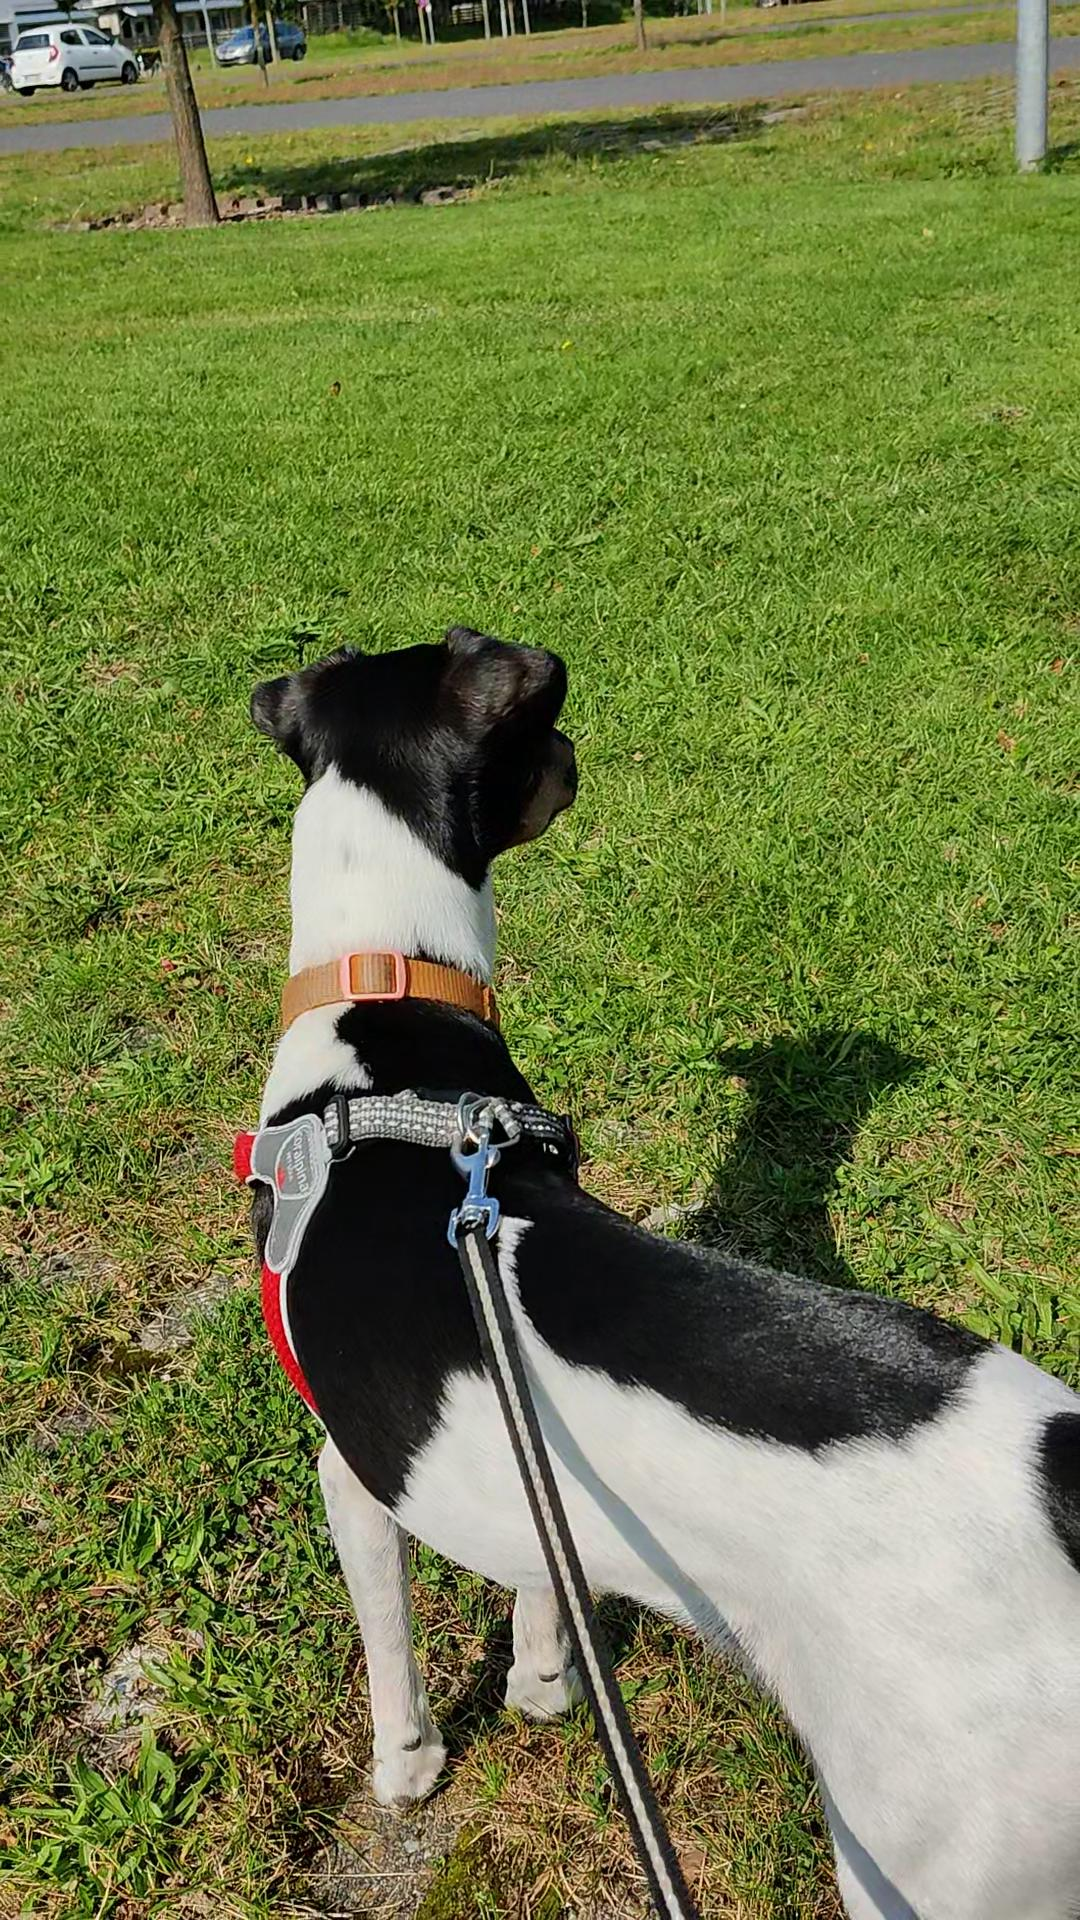Dog: (219, 618, 1079, 1919)
